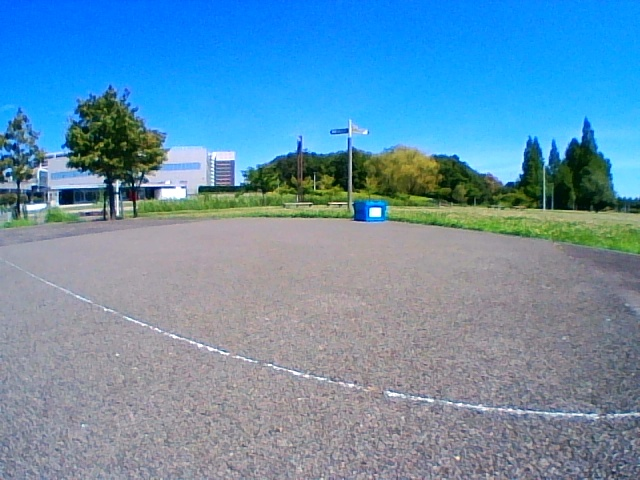blue_box: (353, 200, 385, 222)
tag: (370, 206, 381, 217)
